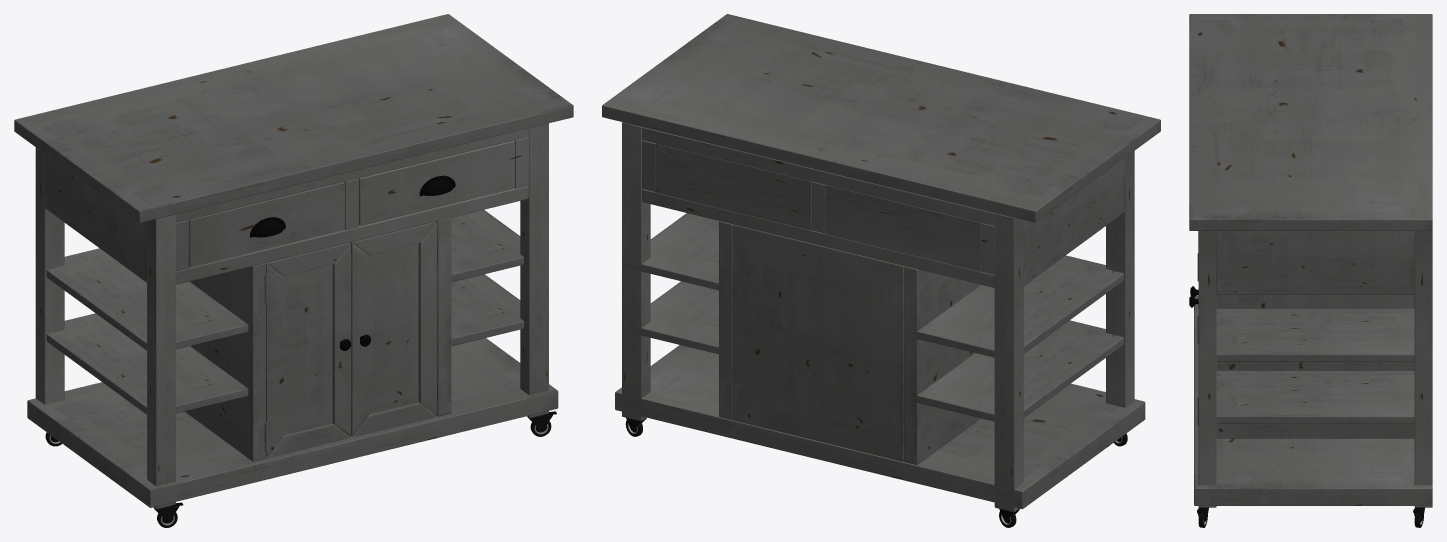
The model's file is ONAW3697_v6_LOD2.obj.
3 views of the same model, side by side, from view 1: azimuth 30°, elevation 25°; view 2: azimuth 150°, elevation 25°; view 3: azimuth 270°, elevation 25° (orthographic). The views are drawn at different scales.
Parts seen in each view (by area): view 1: not_clear_obj_0_v6, not_clear_obj_1_v6, not_clear_obj_2_v6; view 2: not_clear_obj_0_v6, not_clear_obj_1_v6; view 3: not_clear_obj_0_v6, not_clear_obj_1_v6.
Boxes of the visible parts, x1,y1,x2,y2 form: not_clear_obj_0_v6: [14, 14, 573, 507]; not_clear_obj_1_v6: [35, 123, 548, 509]; not_clear_obj_2_v6: [250, 175, 455, 350]; not_clear_obj_0_v6: [602, 14, 1160, 509]; not_clear_obj_1_v6: [622, 122, 1134, 512]; not_clear_obj_0_v6: [1189, 14, 1432, 505]; not_clear_obj_1_v6: [1198, 230, 1432, 507].
Size of what is drawn, in the model's own units: 122 by 88.34 by 60.97.
7 materials, 2 textured.
